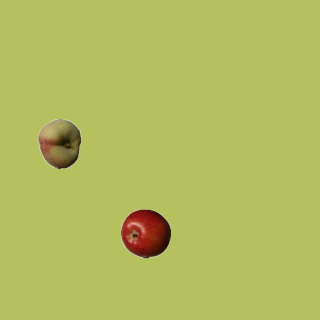Apple Braeburn: (120, 208, 170, 258)
Peach Flat: (34, 118, 84, 168)
